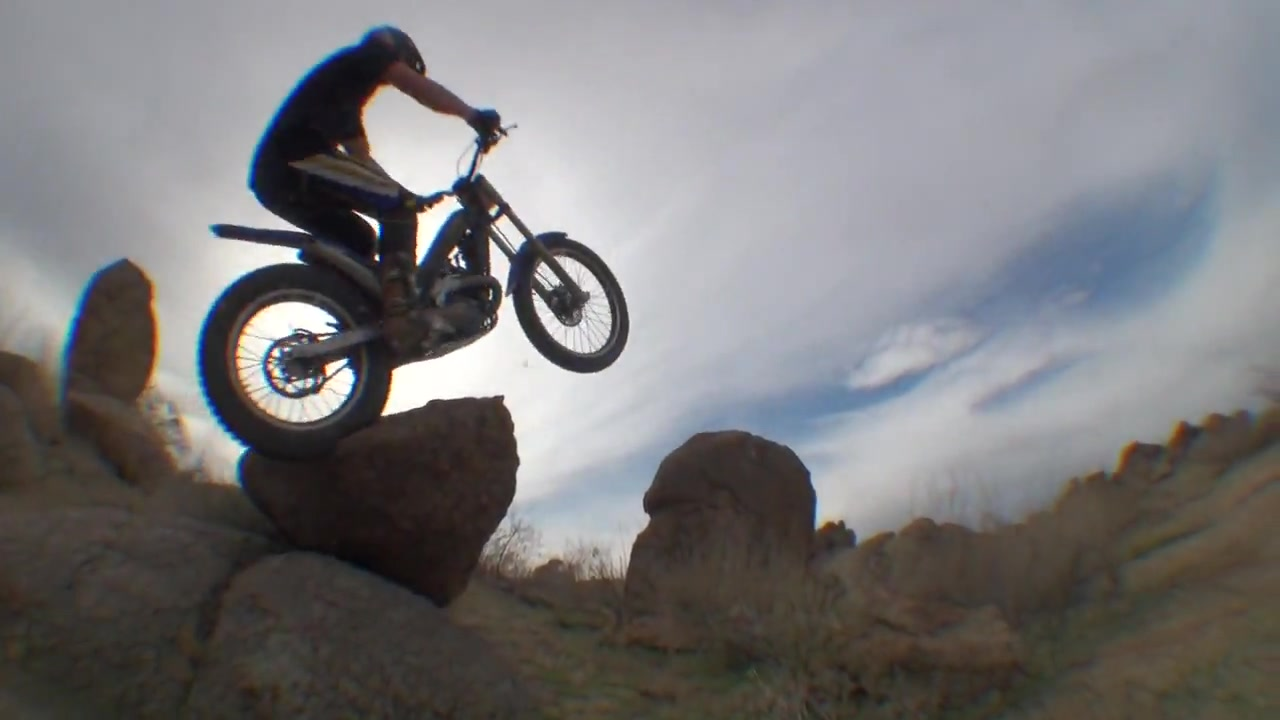motorbike: (193, 118, 633, 458)
